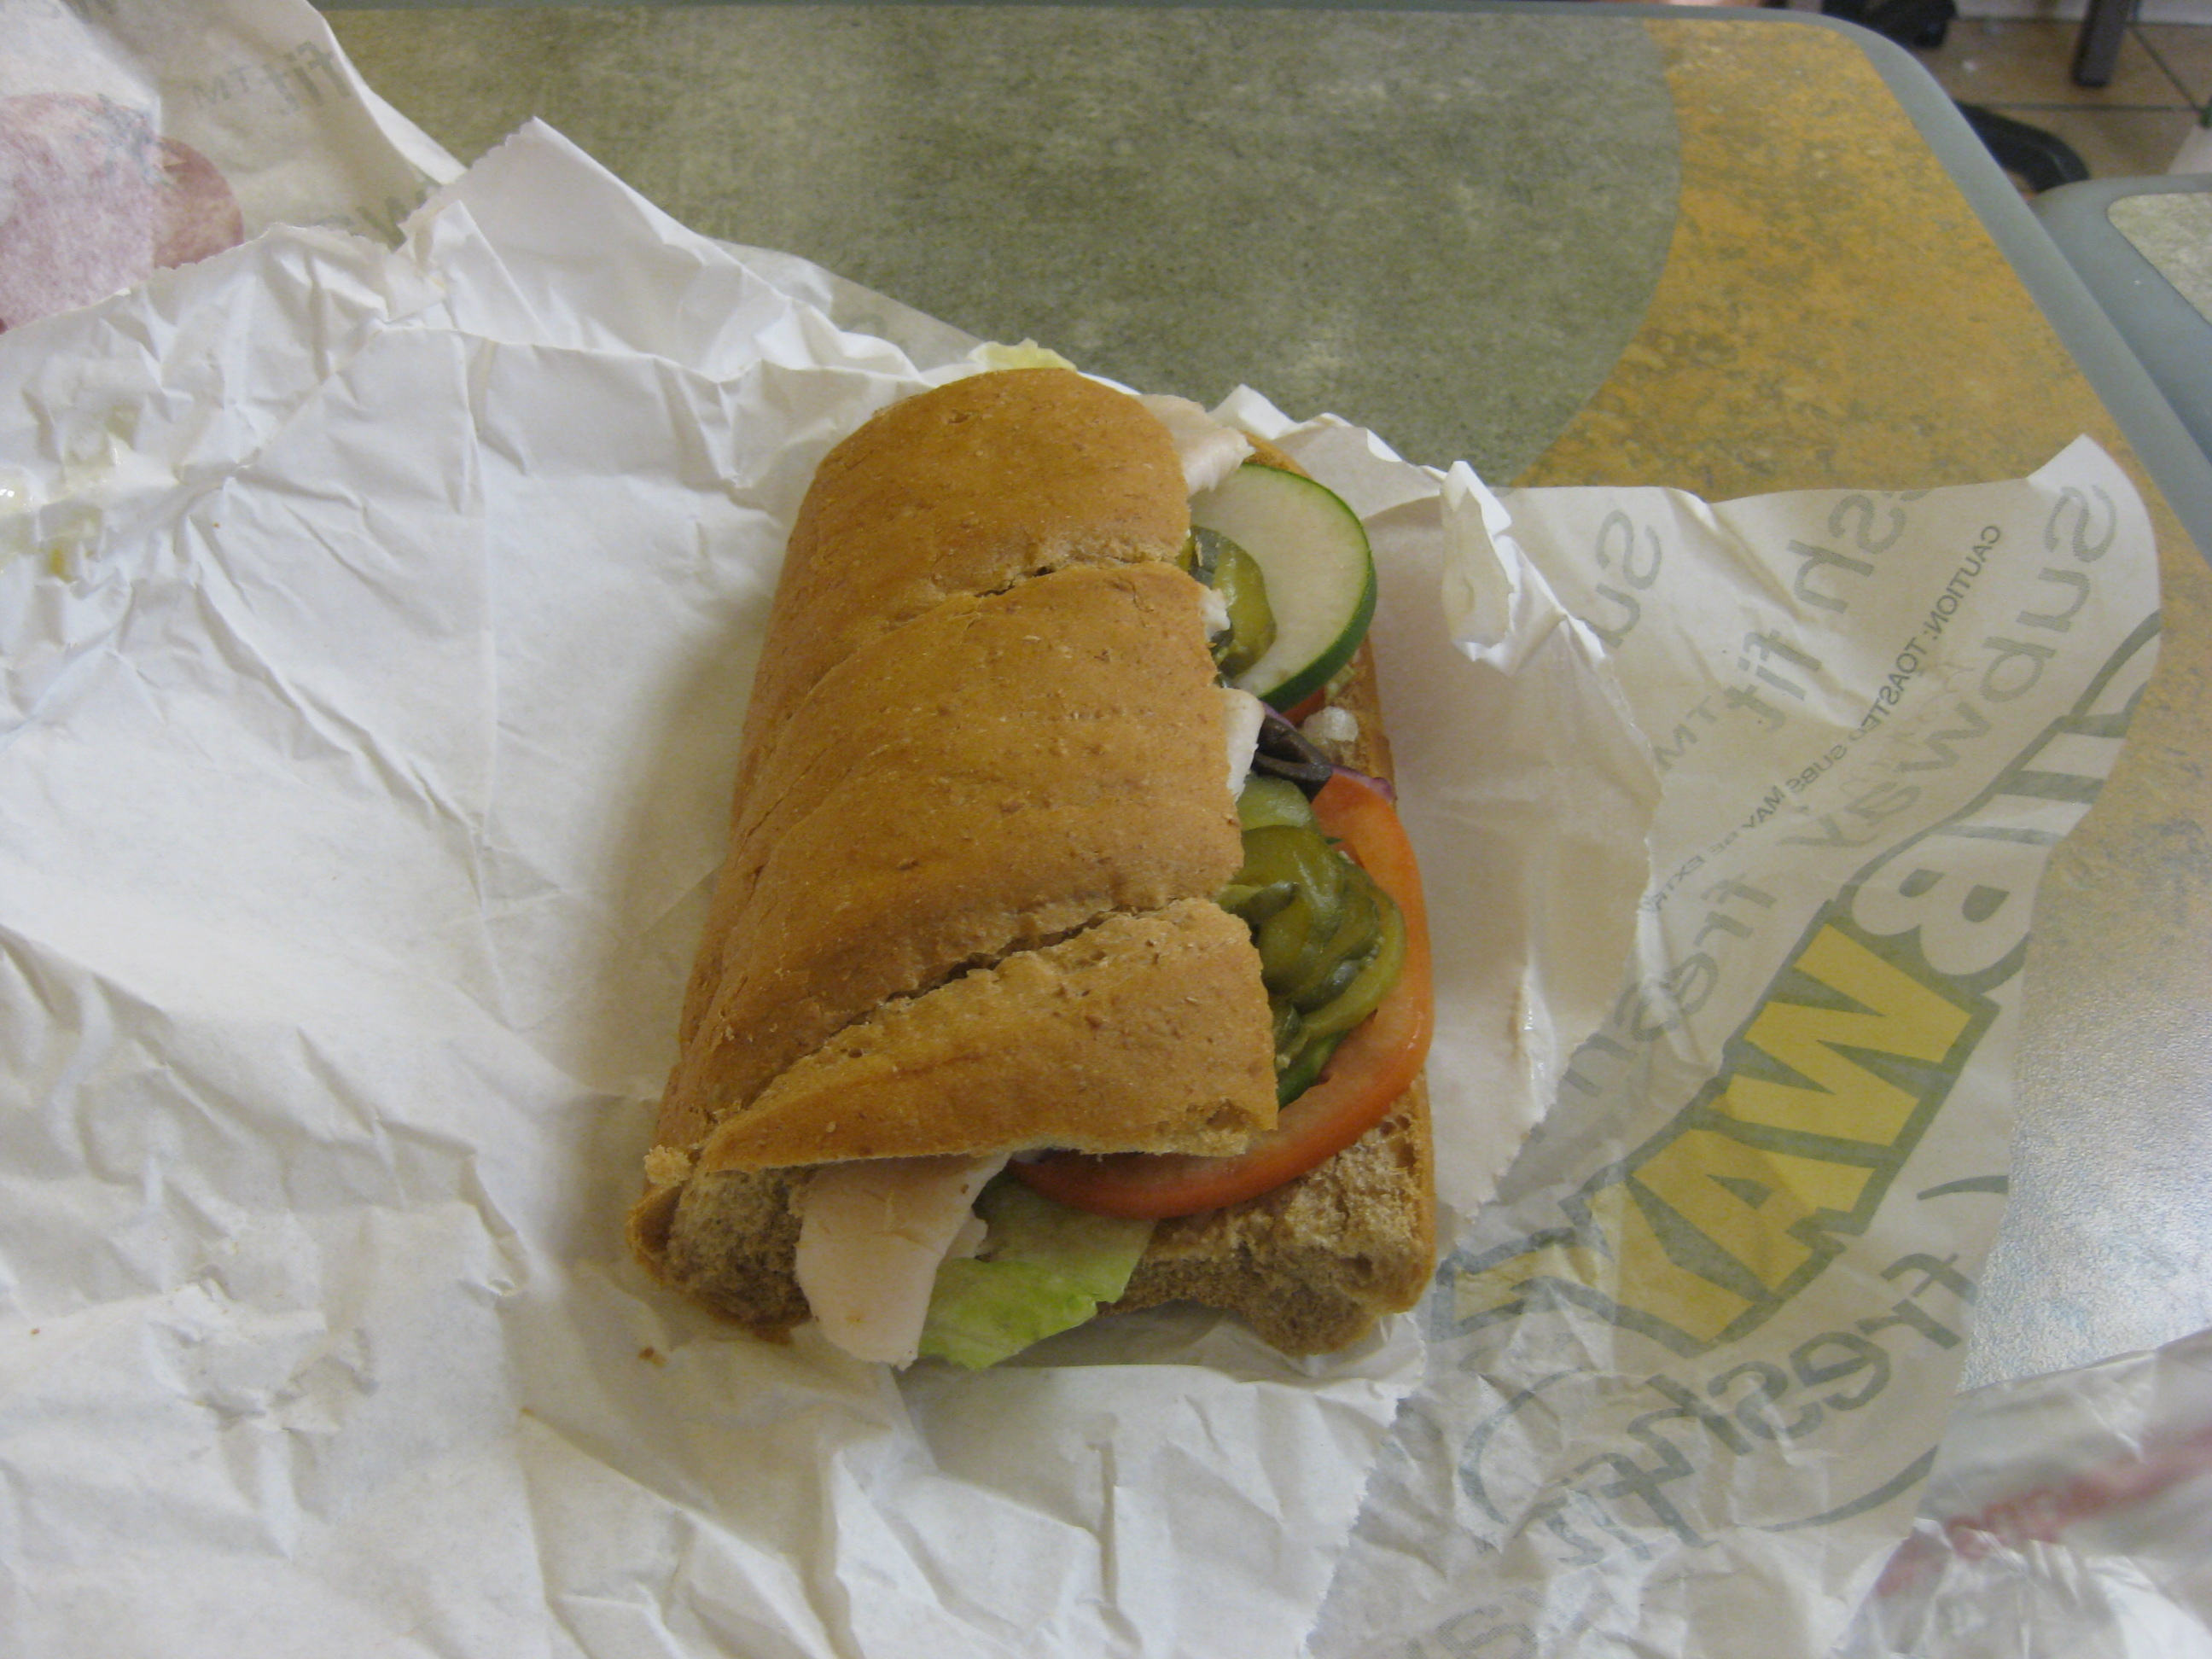sub: (629, 336, 1487, 1426)
